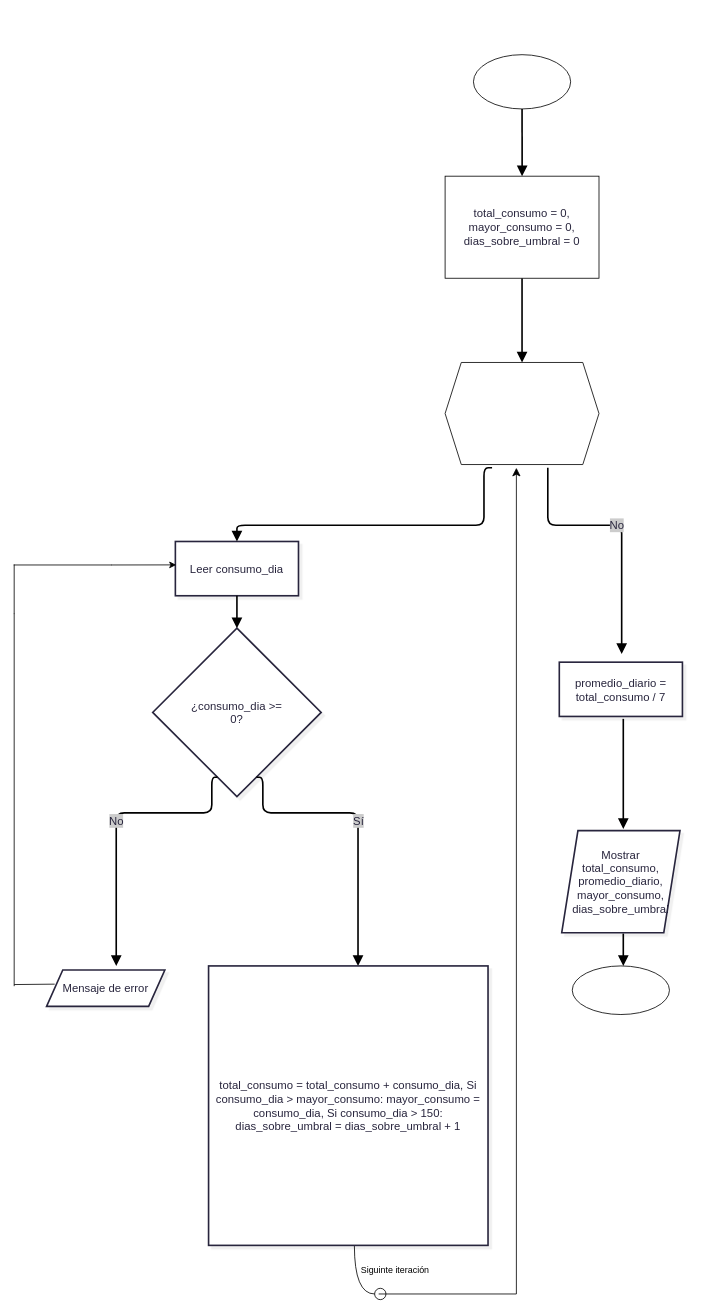
The diagram is 701 pixels wide and 1316 high, and some of its shapes have lost their labels. Each missing label, with the centre of its shape:
"Fin" belongs at point 620,990.
"Inicio" belongs at point 522,81.
"Para dia en el rango de 1 a 7" belongs at point 521,413.
